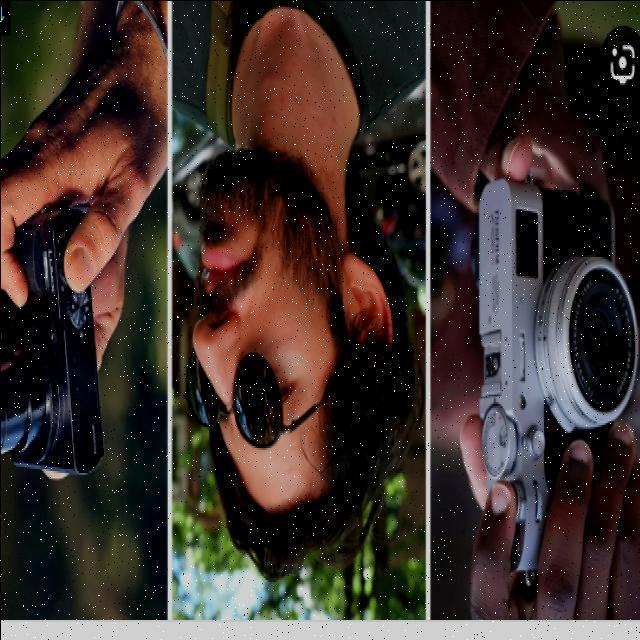face_no_mask: (186, 157, 395, 515)
